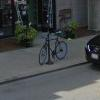Bicycle: (36, 27, 73, 68)
